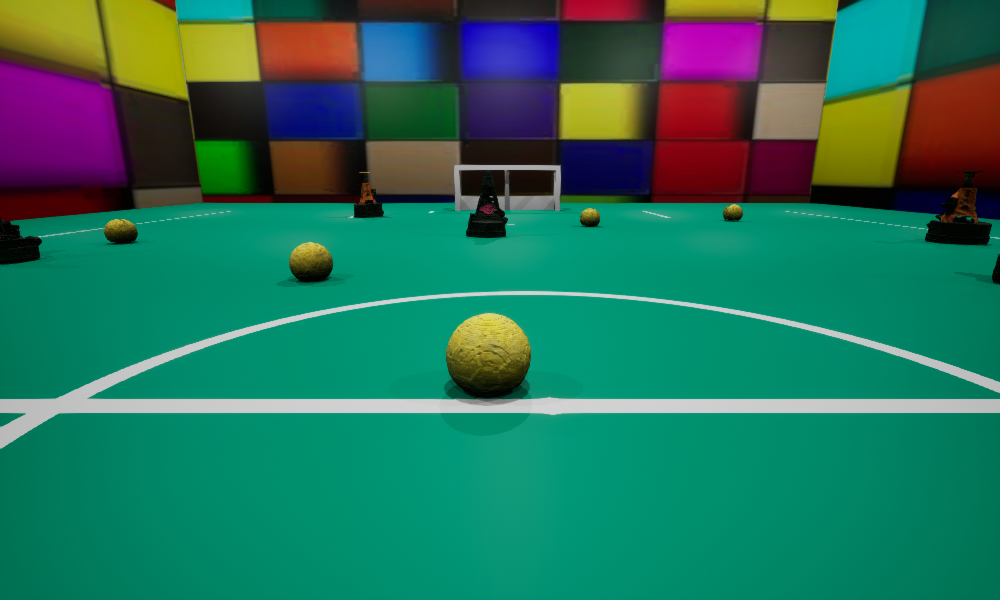b: (446, 313, 530, 397), (289, 242, 332, 280), (104, 219, 137, 242), (580, 208, 599, 226), (723, 204, 742, 220)
o: (925, 171, 991, 244), (354, 172, 383, 217)
p1: (466, 171, 507, 237), (992, 254, 999, 282)
p2: (0, 217, 41, 264)
